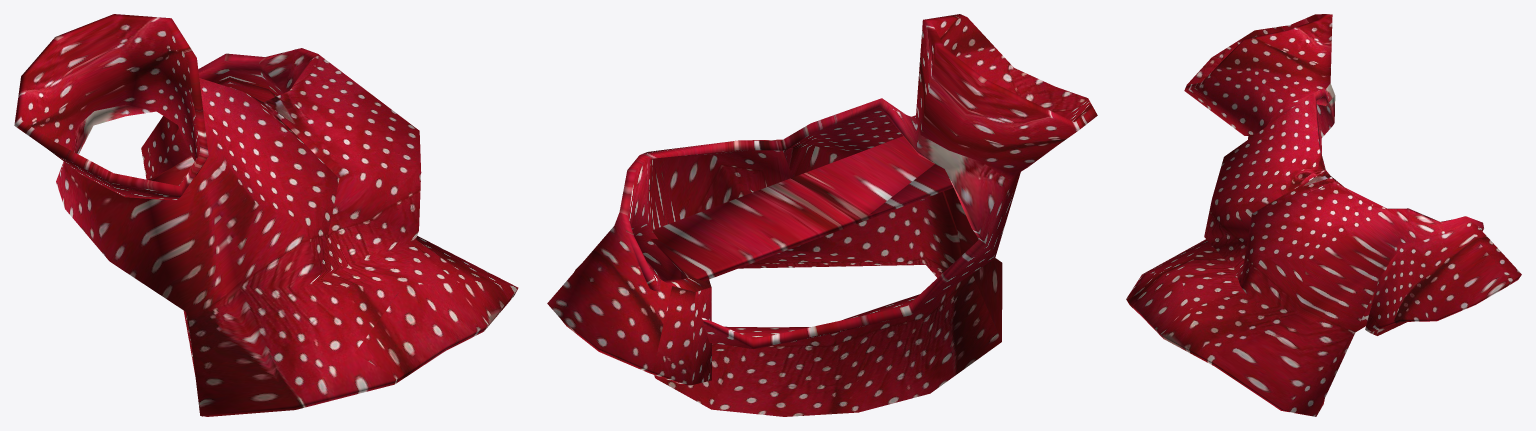
The model's file is Top8.fbx.
3 views of the same model, side by side, from view 1: azimuth 30°, elevation 25°; view 2: azimuth 150°, elevation 25°; view 3: azimuth 270°, elevation 25° (orthographic). The views are drawn at different scales.
Parts seen in each view (by area): view 1: F.Top.Shoes.002; view 2: F.Top.Shoes.002; view 3: F.Top.Shoes.002.
Part boxes in pixels (x1,y1,x2,y2): F.Top.Shoes.002: [14, 14, 518, 416]; F.Top.Shoes.002: [547, 14, 1097, 416]; F.Top.Shoes.002: [1126, 14, 1521, 416].
Bounding box in the file's own units: 423 × 363 × 426.
